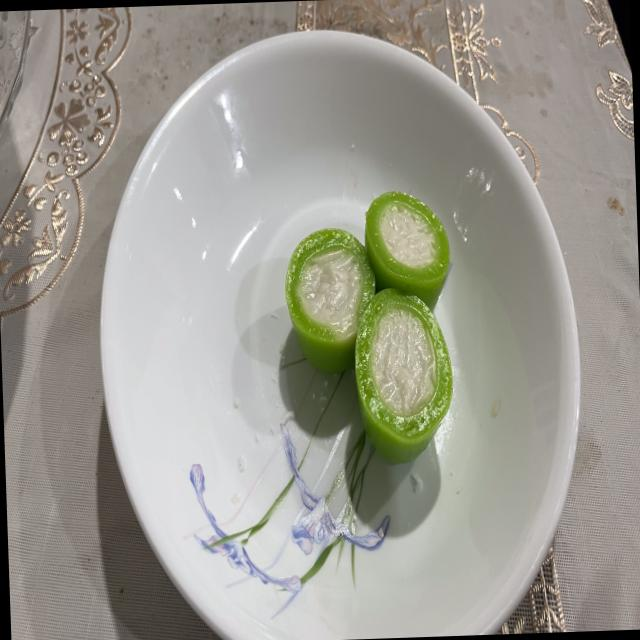nona-manis: (355, 288, 452, 462), (285, 228, 375, 373), (364, 191, 449, 307)
